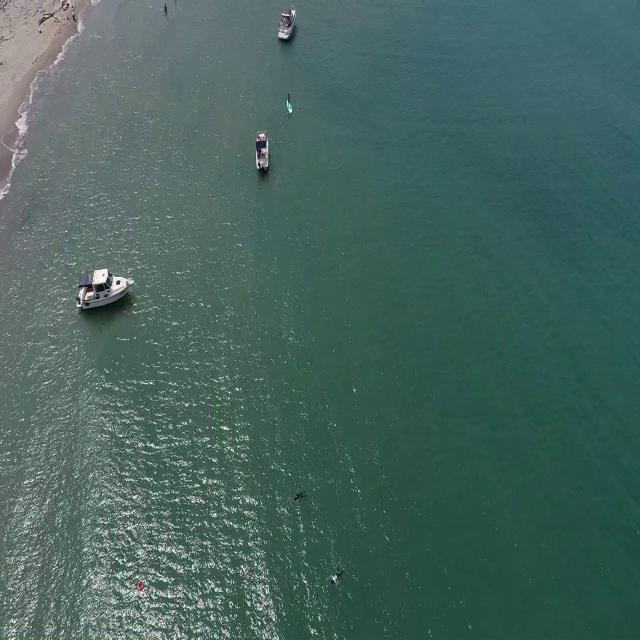boat: (77, 270, 132, 308), (255, 131, 272, 172), (278, 2, 296, 40)
life_buoy: (138, 579, 144, 592)
person: (329, 566, 344, 592), (294, 490, 308, 504), (162, 1, 170, 16), (287, 93, 293, 107)
surfboard: (284, 100, 294, 114)
